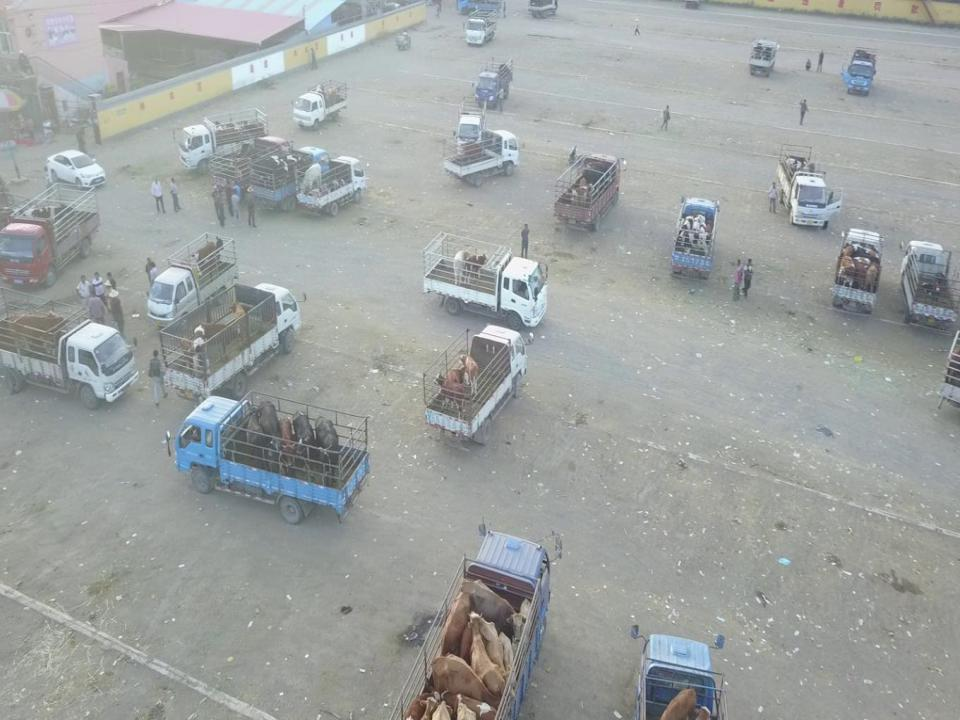car: (45, 148, 107, 190)
truck: (381, 518, 563, 720), (164, 387, 372, 525), (158, 282, 306, 403), (0, 287, 139, 411), (422, 322, 530, 452), (420, 230, 551, 332), (0, 182, 102, 288), (629, 617, 728, 720), (146, 232, 239, 328), (173, 107, 272, 174), (897, 237, 960, 331), (776, 142, 842, 231), (249, 145, 338, 211), (553, 152, 627, 231), (209, 134, 296, 200), (442, 128, 525, 188), (832, 227, 884, 317), (294, 156, 370, 217), (671, 194, 720, 281), (292, 79, 348, 132), (471, 56, 514, 108), (453, 96, 487, 159), (841, 44, 877, 98), (747, 35, 780, 78), (463, 8, 497, 46), (455, 0, 503, 16), (526, 0, 559, 19)
